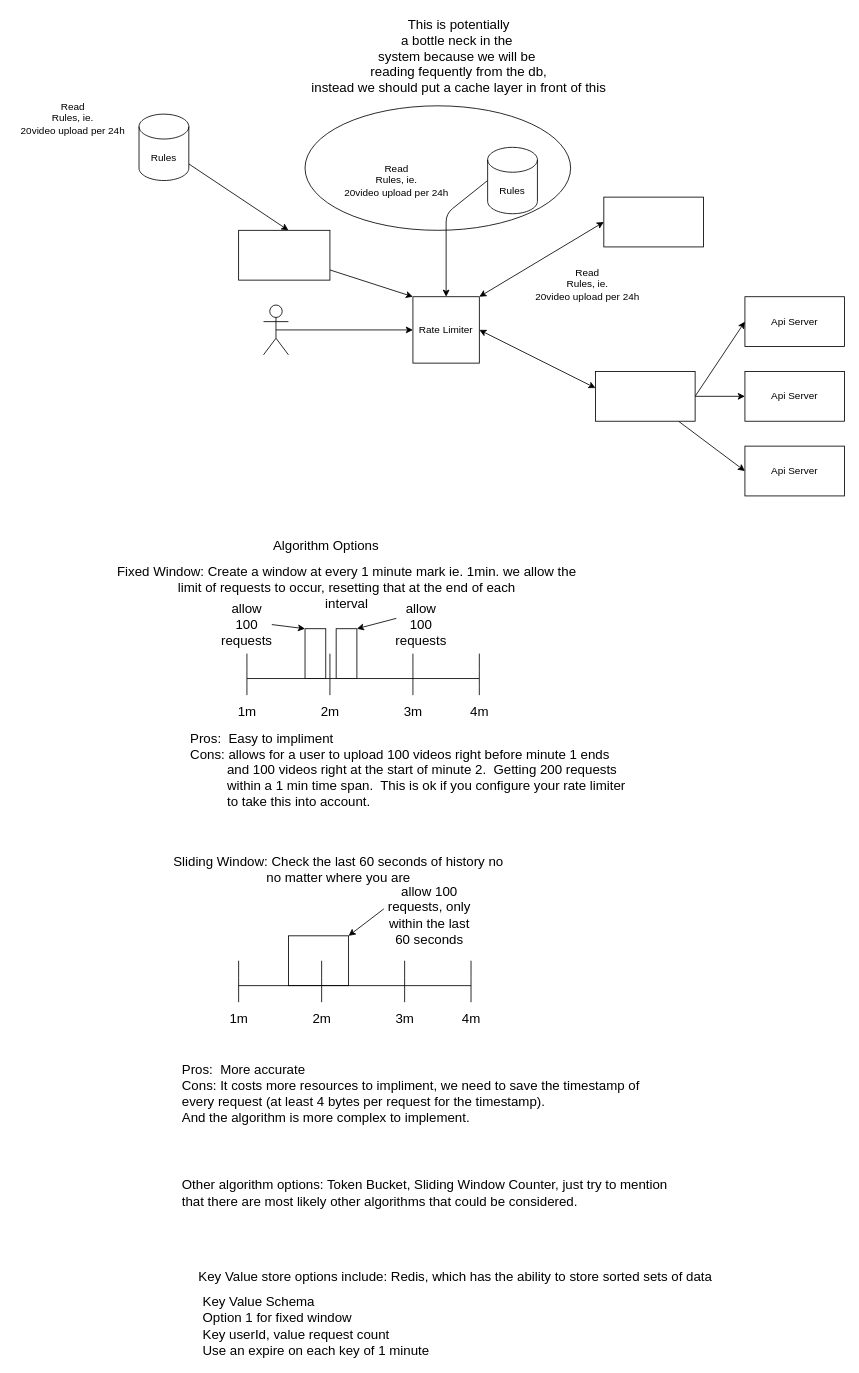
The diagram is 859 pixels wide and 1373 high, and some of its shapes have lost their labels. Here are the shapes that lost their labels. From the top down, the centre of each, then its label:
At point (653, 221): "Memory K/V Store Tracking users request history".
At point (275, 329): "User".
At point (645, 396): "Load Balancer".
